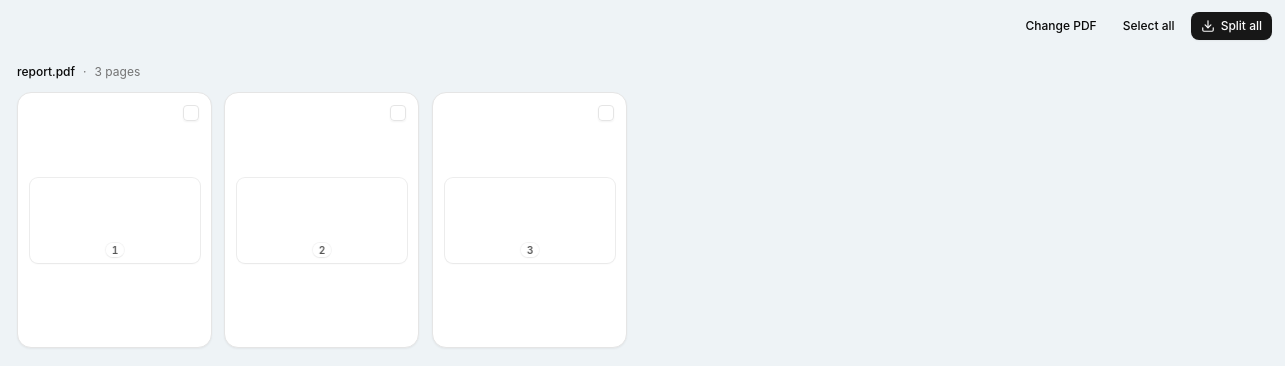
Test: Split and extract workspace › shows every PDF page in a selectable grid with actions in the top bar
Check: the element with test id "split-workspace" is shown, box [17, 64, 627, 348]
Check: the element with test id "split-page-grid" is shown, box [17, 92, 627, 348]
Press a
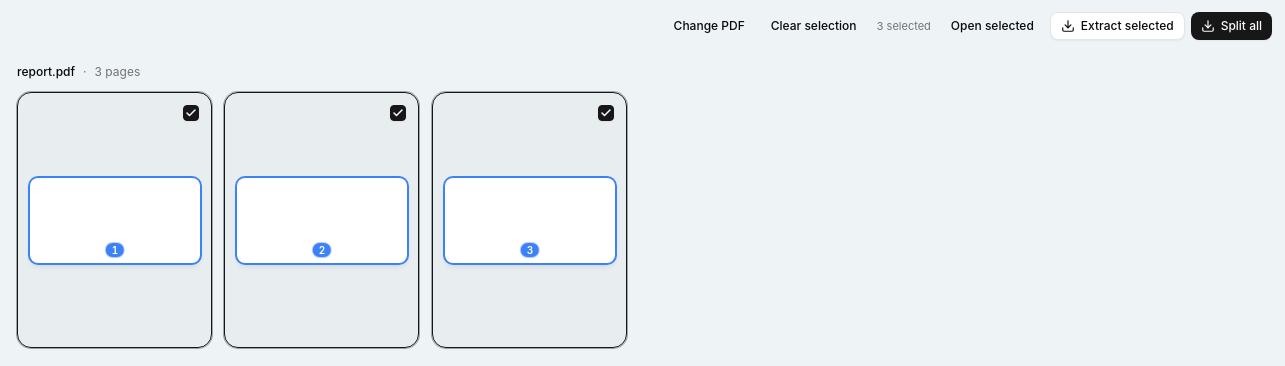
Check: the text "3 selected" is shown, box [872, 18, 935, 34]
Press Escape
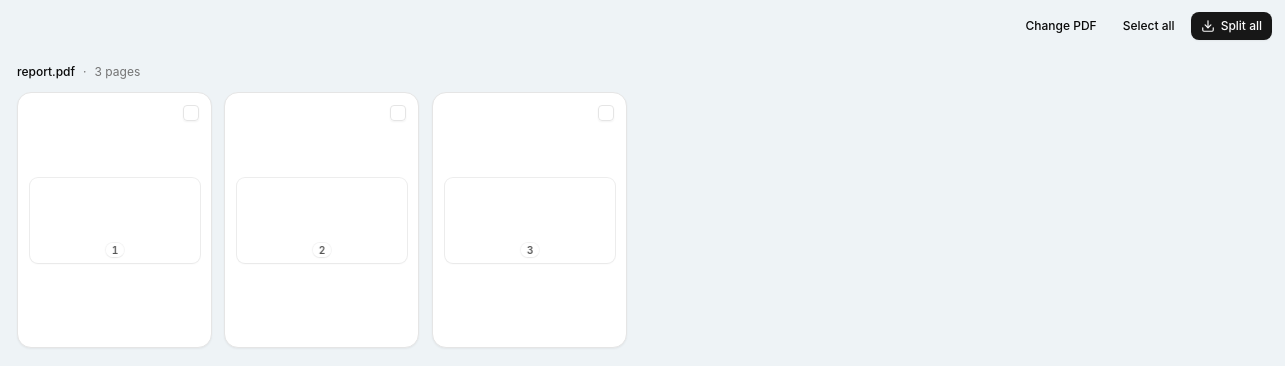
Check: the text "selected" is gone
Click the button named "Page 1" at (115, 220), box [17, 92, 212, 348]
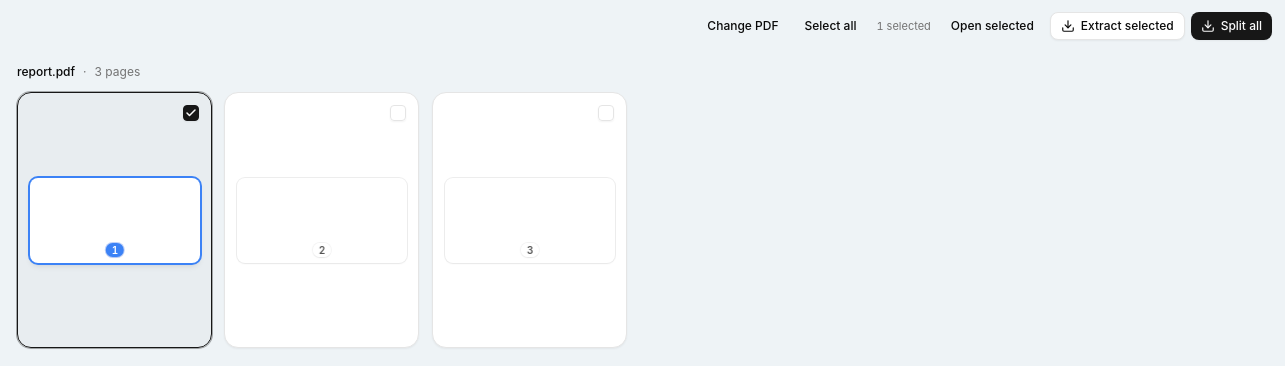
Check: the text "1 selected" is shown, box [872, 18, 935, 34]
Check: the button "Open selected" is shown, box [941, 12, 1044, 40]
Check: the button "Extract selected" is shown, box [1050, 12, 1185, 40]
Click the button named "Page 3" at (529, 220), box [432, 92, 627, 348]
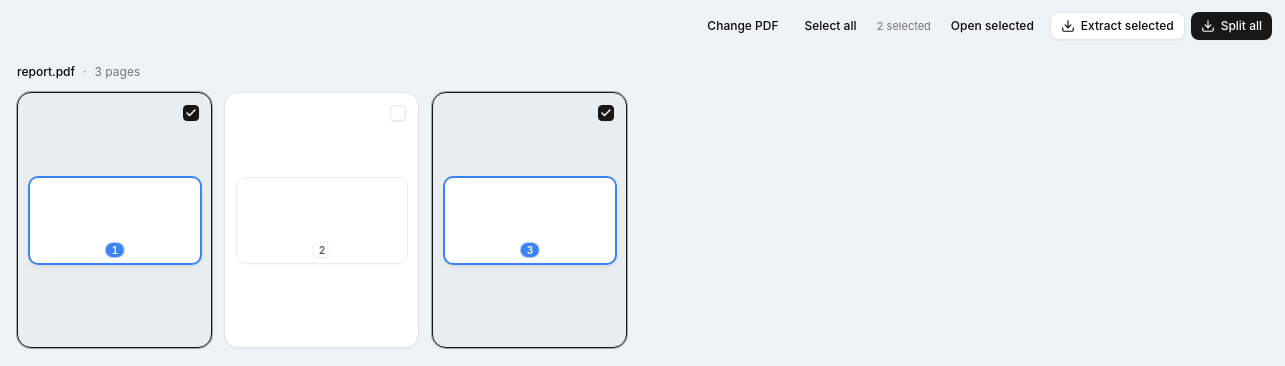
Check: the text "2 selected" is shown, box [872, 18, 935, 34]
Click the button "Select all" at (830, 26), box [794, 12, 866, 40]
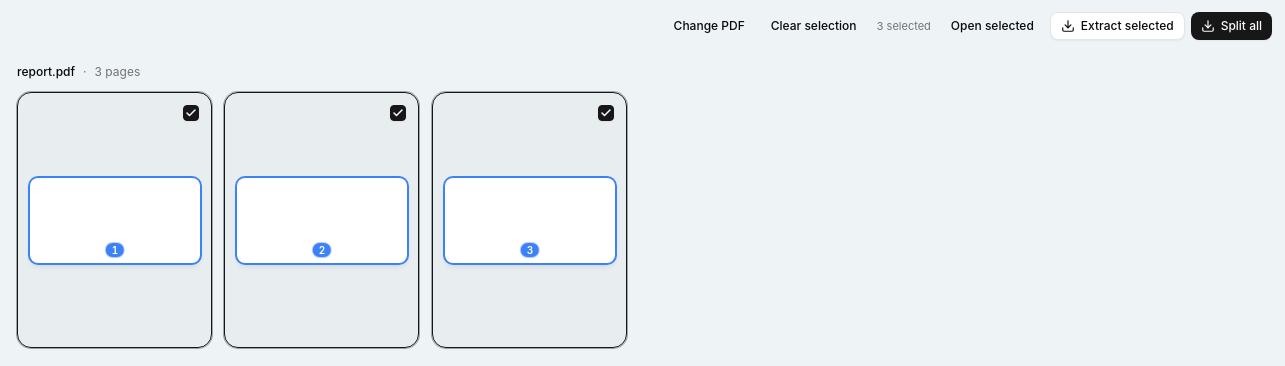
Check: the text "3 selected" is shown, box [872, 18, 935, 34]
Check: the button "Clear selection" is shown, box [761, 12, 866, 40]
